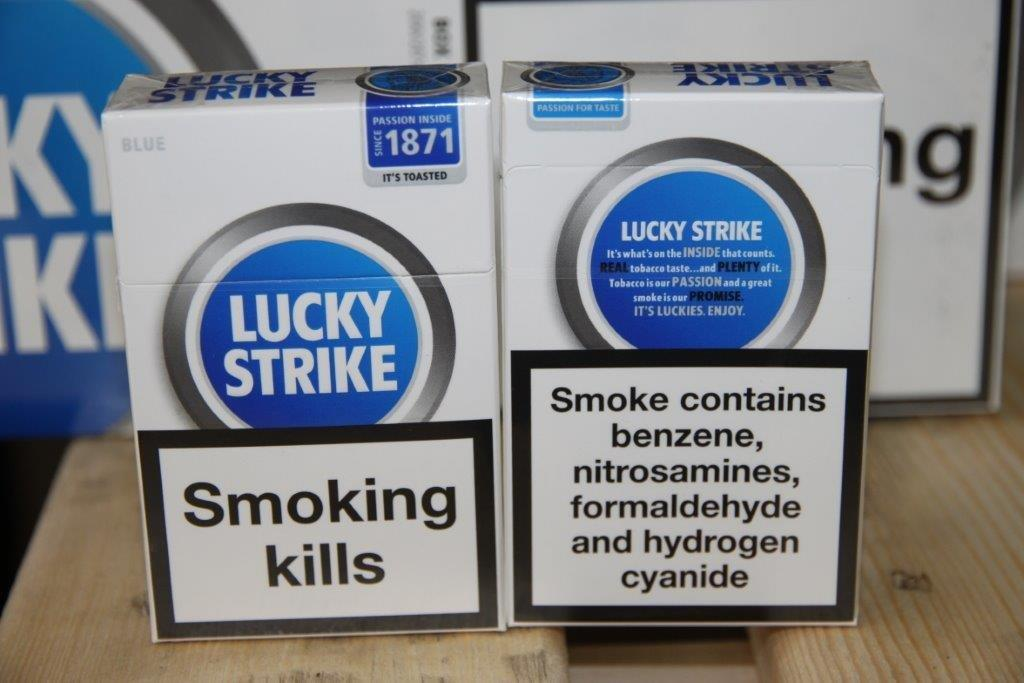lucky_strike_blue: (503, 97, 853, 621), (148, 111, 496, 630)
